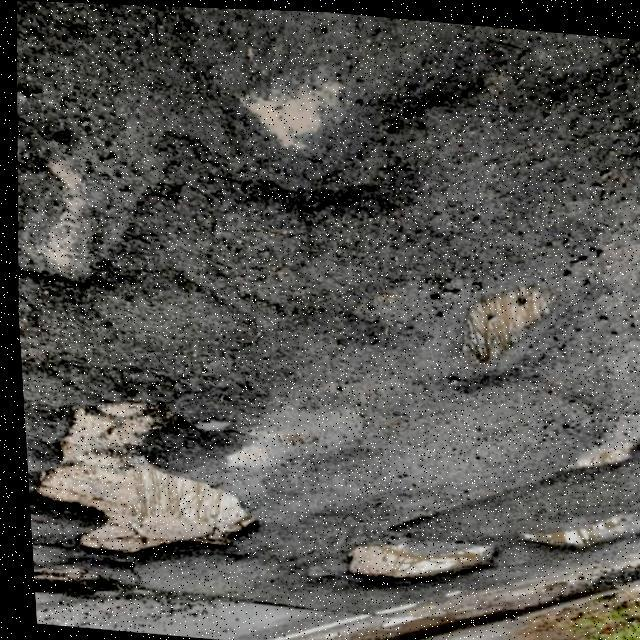pothole: (18, 389, 265, 581), (9, 149, 130, 295), (322, 514, 500, 604), (222, 58, 358, 172), (444, 270, 567, 383), (515, 484, 640, 559), (547, 403, 640, 479)
